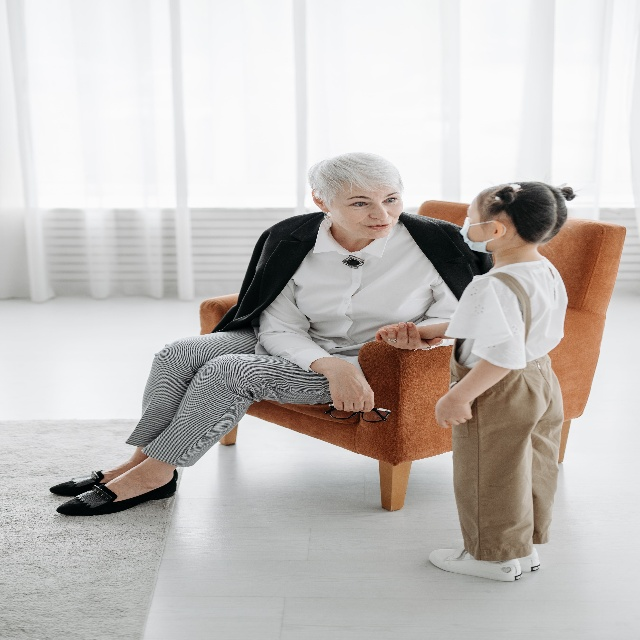Gafas: (327, 400, 391, 423)
Mascara: (452, 208, 509, 257)
Sin_guantes: (325, 358, 377, 417), (434, 386, 475, 435), (379, 320, 441, 349)
